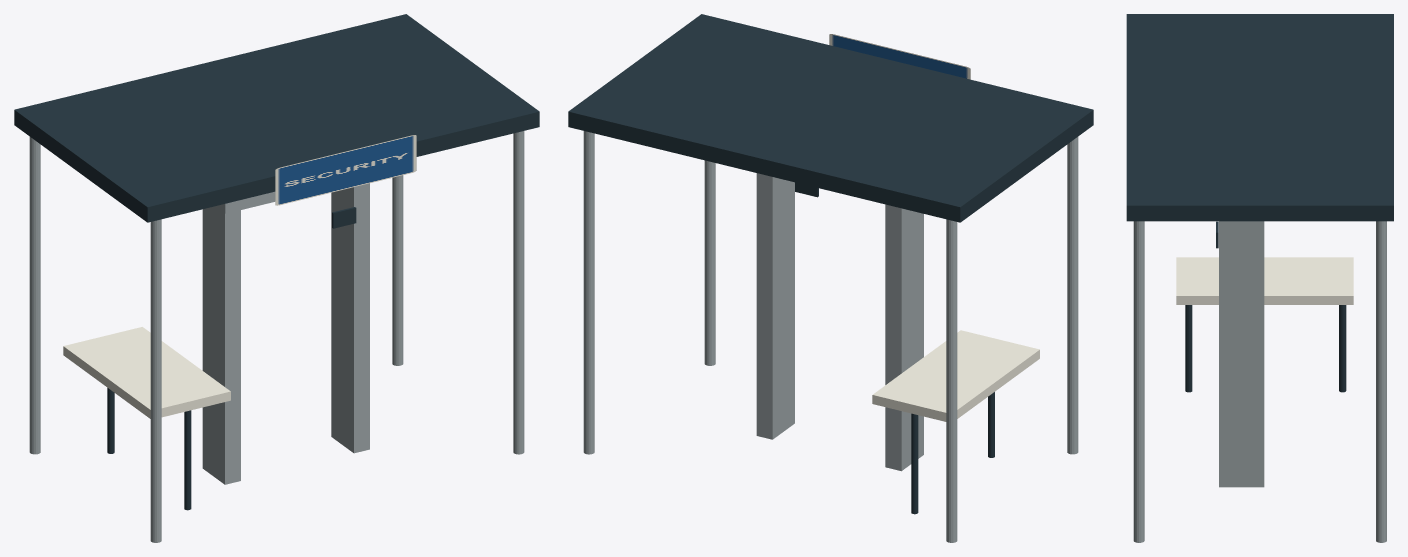
Rendered from scendance-plan-security-checkpoint.glb.
3 renders of one model, left to right at view 1: azimuth 30°, elevation 25°; view 2: azimuth 150°, elevation 25°; view 3: azimuth 270°, elevation 25°, orthographic.
Size of the model in its own units: 2.92 by 2.5 by 1.75.
4 materials, 1 textured.
